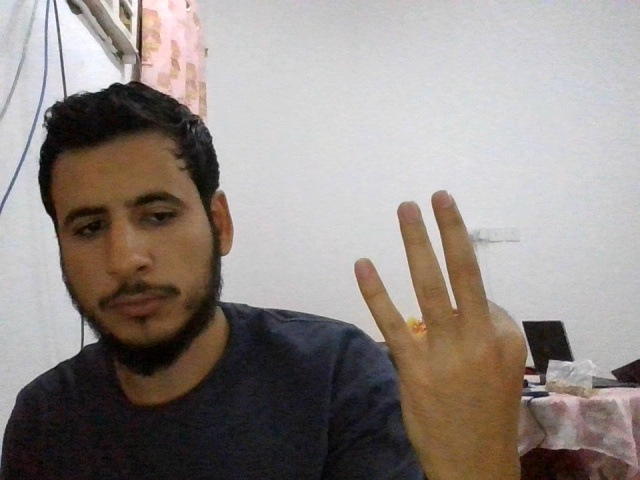Three: (354, 188, 529, 476)
